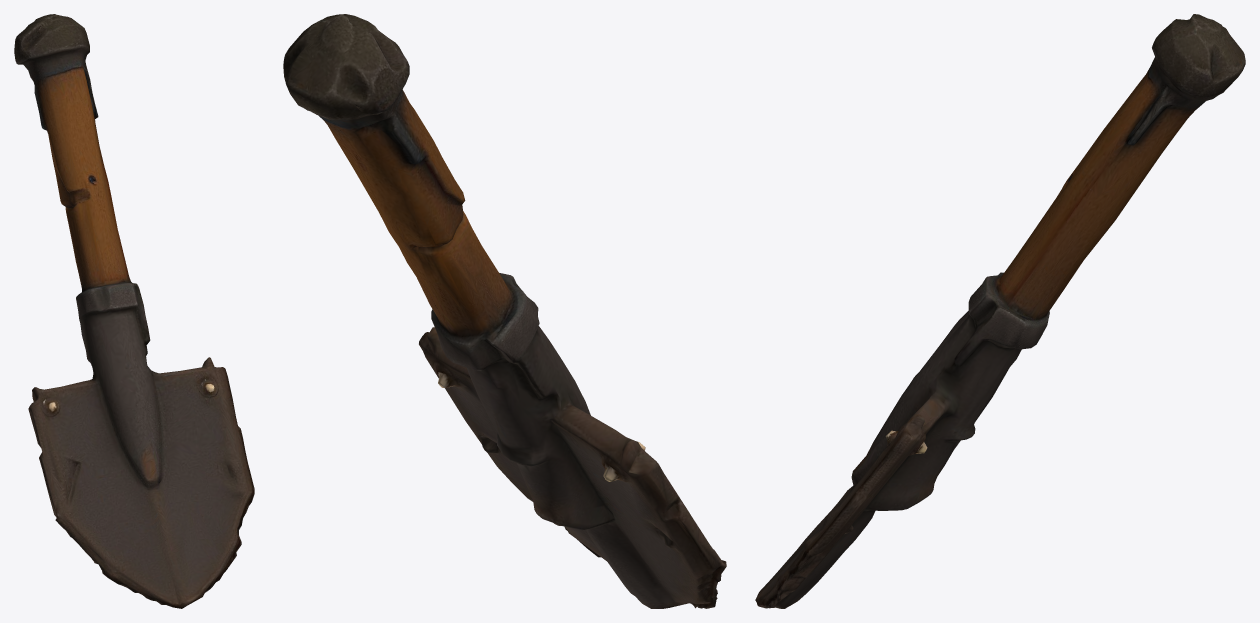
File: pala.glb
3 renders of one model, left to right at view 1: azimuth 30°, elevation 25°; view 2: azimuth 150°, elevation 25°; view 3: azimuth 270°, elevation 25°, orthographic. The views are drawn at different scales.
Visible parts, largest first — view 1: pala; view 2: pala; view 3: pala.
Boxes of the visible parts, box(x1,y1,x2,y2) form: pala: box(14, 14, 254, 608); pala: box(283, 14, 726, 608); pala: box(755, 14, 1245, 608).
Size of what is drawn, in the model's own units: 0.4786 by 1.2 by 0.8702.
1 material, 1 textured.
